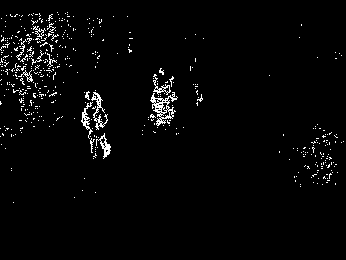person: (81, 90, 116, 159)
